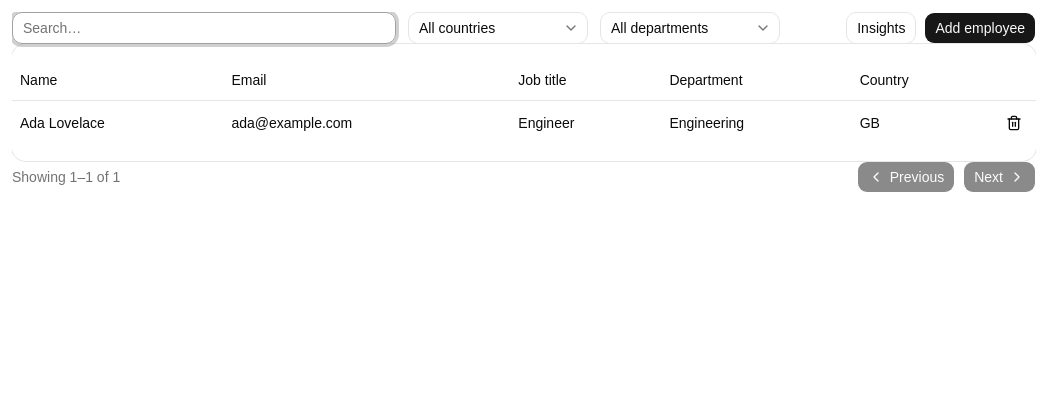
Test: EmployeeListPage › row click navigates to employee detail page
What coordinates should you click on to do the following:
click the text "Ada Lovelace"
I would click on:
 (62, 122)
Its box is top-left (12, 100), bottom-right (223, 144).
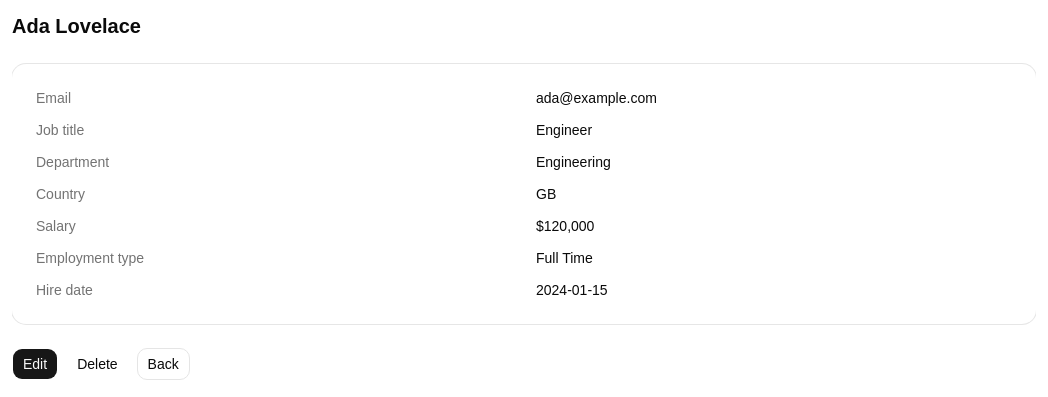
Expected: the button "Edit" is shown, top-left (12, 348), bottom-right (58, 380)
